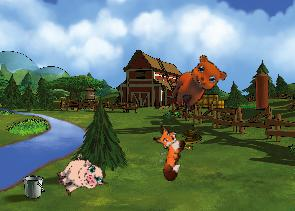bear: (166, 50, 230, 120)
fox: (143, 123, 190, 182)
pig: (52, 149, 107, 203)
